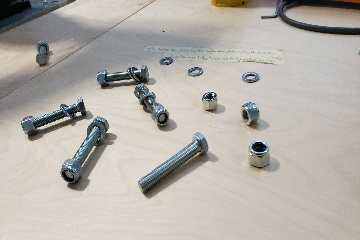Bolt: (131, 130, 212, 198)
FalseAssembly: (60, 117, 119, 191), (22, 94, 86, 127), (33, 37, 52, 68)
FinishedAssembly: (131, 83, 176, 129), (95, 62, 149, 88)
Nut: (248, 139, 271, 169), (239, 102, 260, 127), (200, 90, 223, 112)
Washer: (240, 71, 262, 82), (187, 66, 204, 77), (159, 57, 174, 65)
